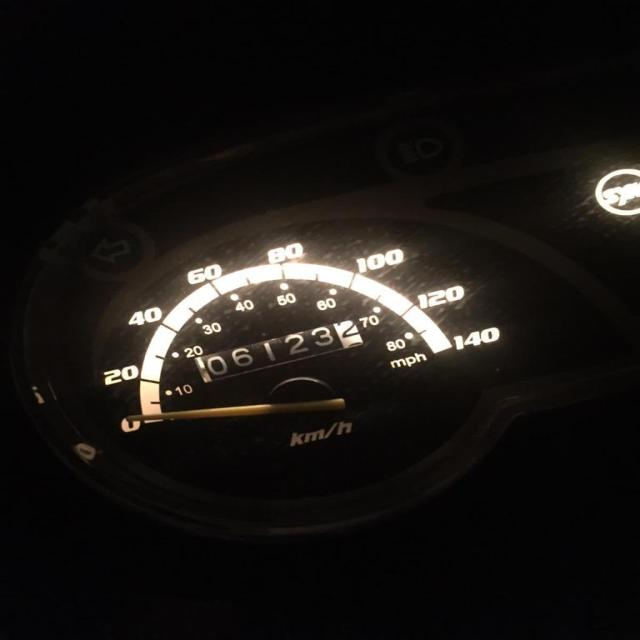odometer: (191, 318, 367, 383)
